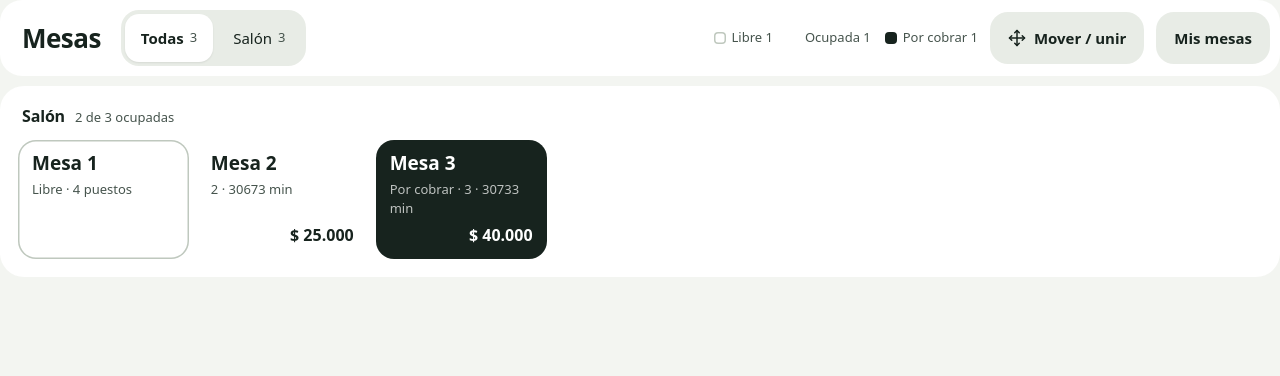
it: TablesPage › «Mover / unir» es un solo botón que ofrece las dos cosas
Expected: the button with aria-label "mesa 1, libre" is shown, [18, 140, 189, 259]
Click the button "Mover / unir" at (1067,38), box [990, 12, 1144, 64]
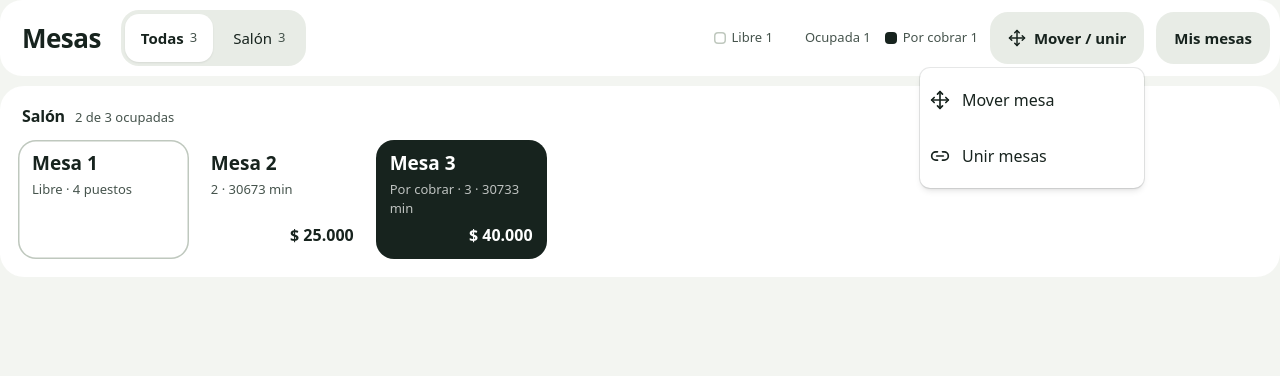
Click the menu item "Unir mesas" at (988,156), box [930, 145, 1047, 167]
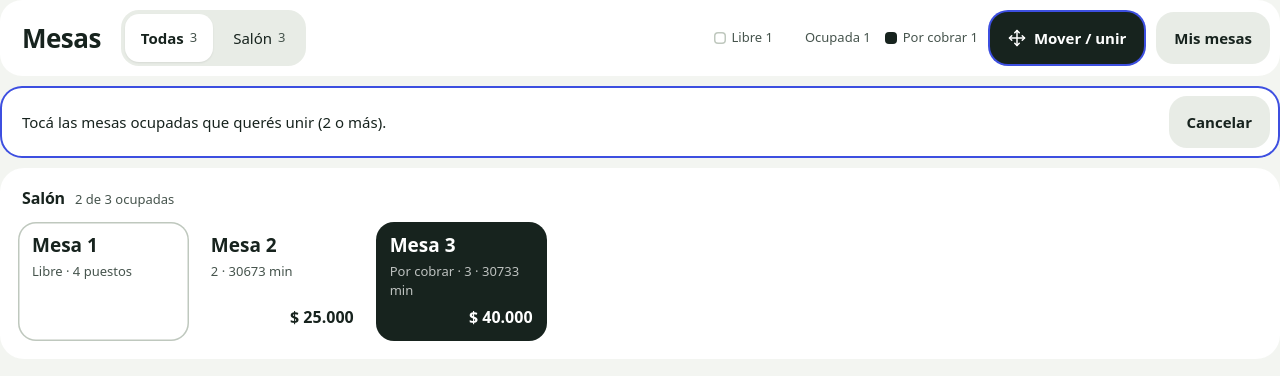
Result: the text "Tocá las mesas ocupadas que querés unir (2 o más)." is shown at [22, 112, 386, 132]
